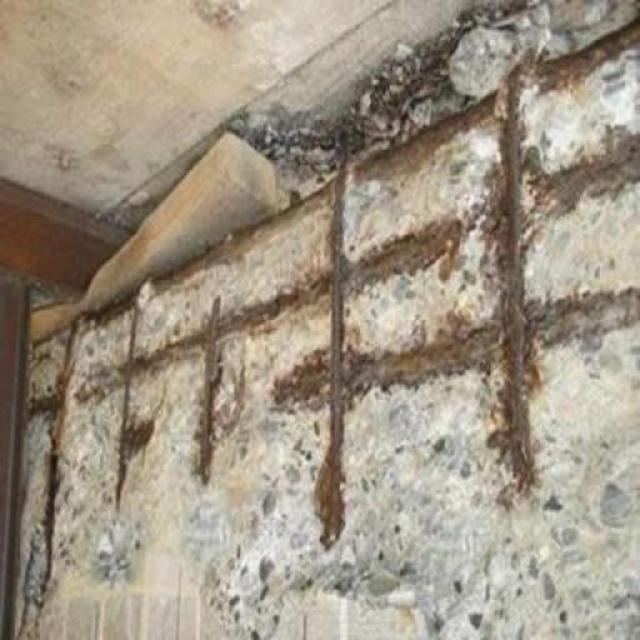D0w0: (19, 0, 639, 639)
